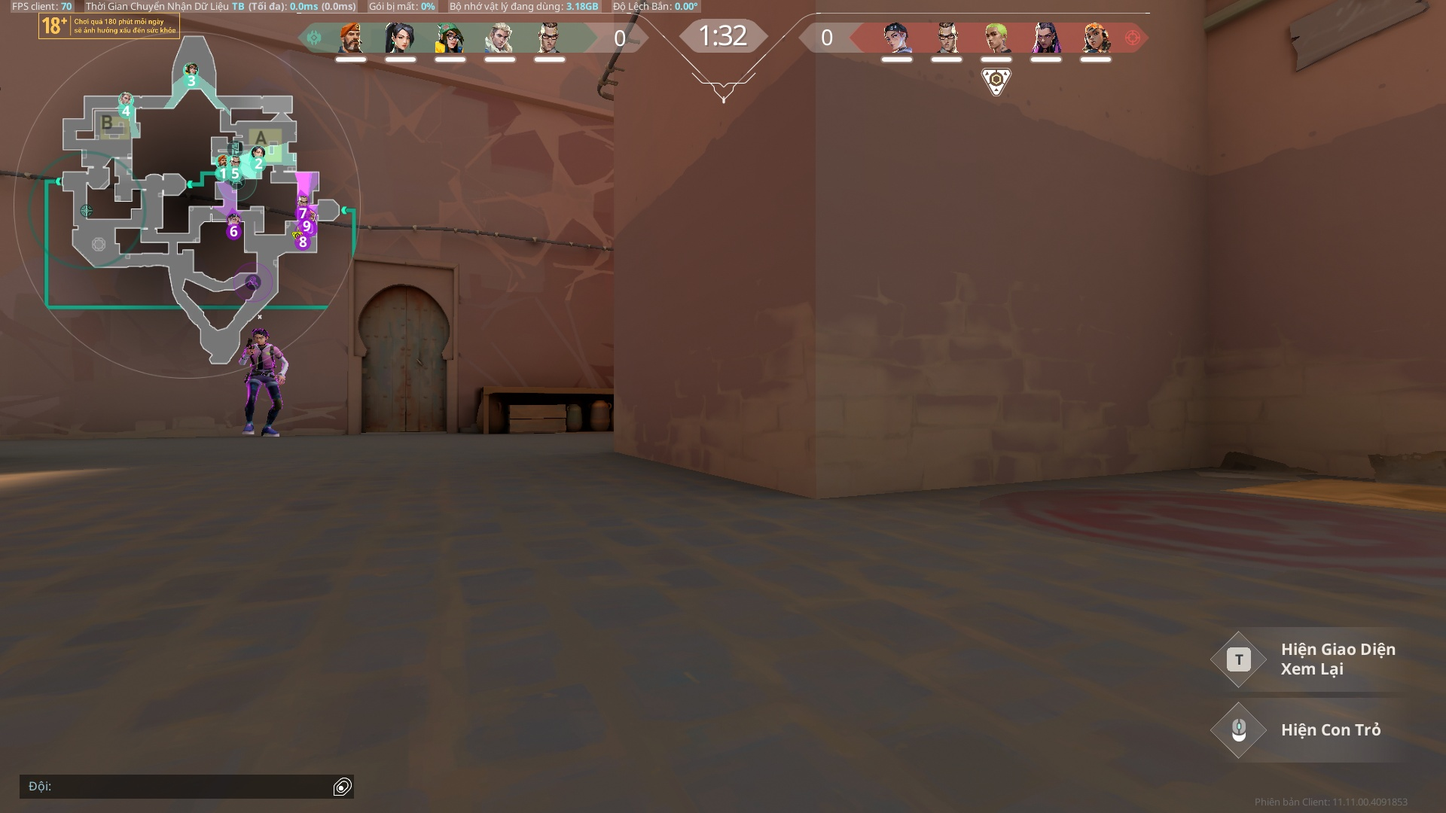body: (249, 343, 276, 374)
head: (253, 328, 267, 343)
